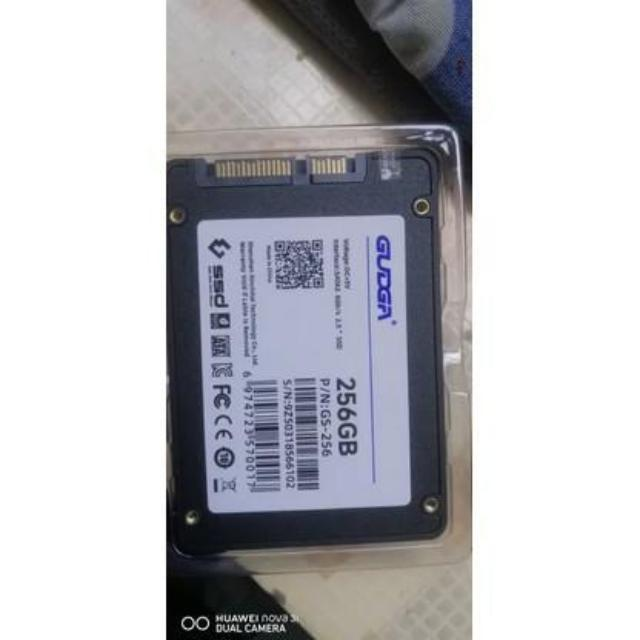DISK: (168, 144, 450, 558)
